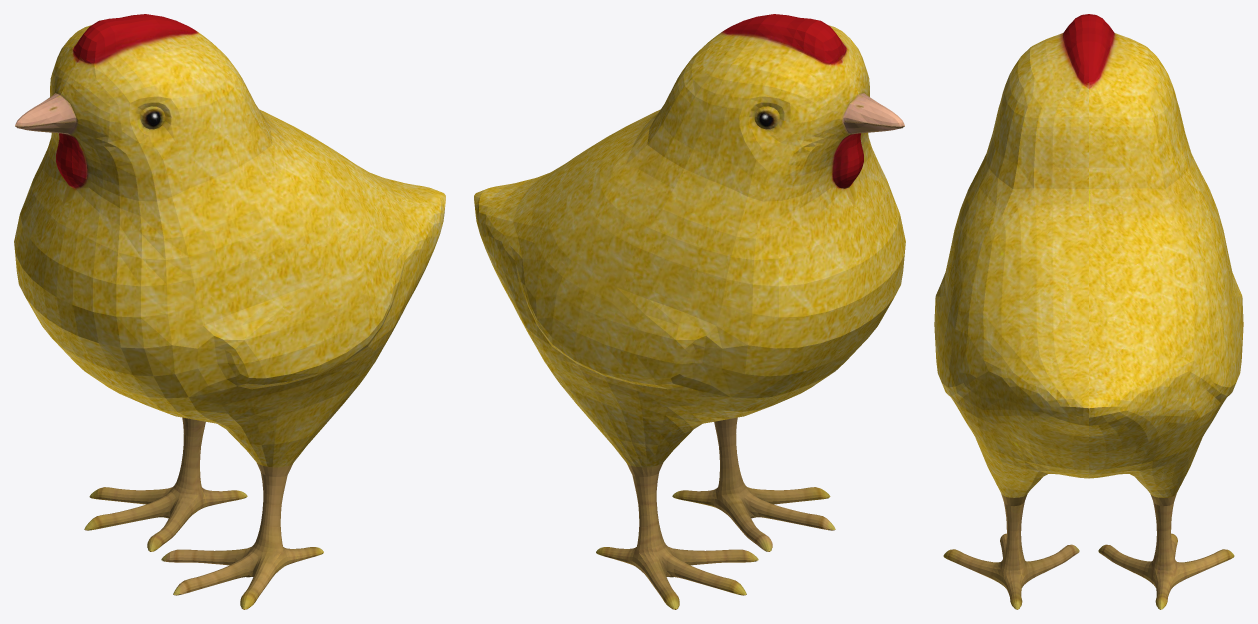
File: Chicken.obj
The picture shows the model from 3 angles, left to right: view 1: azimuth 30°, elevation 25°; view 2: azimuth 150°, elevation 25°; view 3: azimuth 270°, elevation 25°; orthographic projection. The views are drawn at different scales.
Parts seen in each view (by area): view 1: Line001; view 2: Line001; view 3: Line001.
Part boxes in pixels (<box>): Line001: <box>14,14,445,609</box>; Line001: <box>474,14,905,609</box>; Line001: <box>934,14,1243,609</box>.
Size of the model in its own units: 60.54 by 73.53 by 40.24.
Materials: 1 (1 with a texture image).
